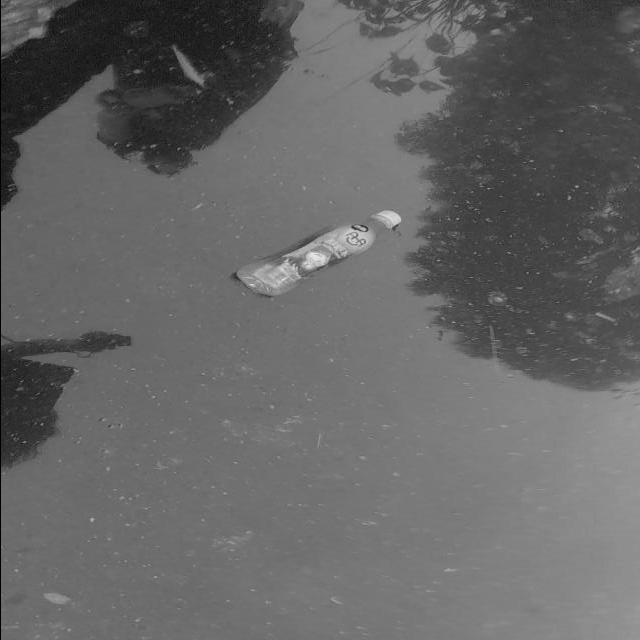bottle: (219, 205, 425, 302)
